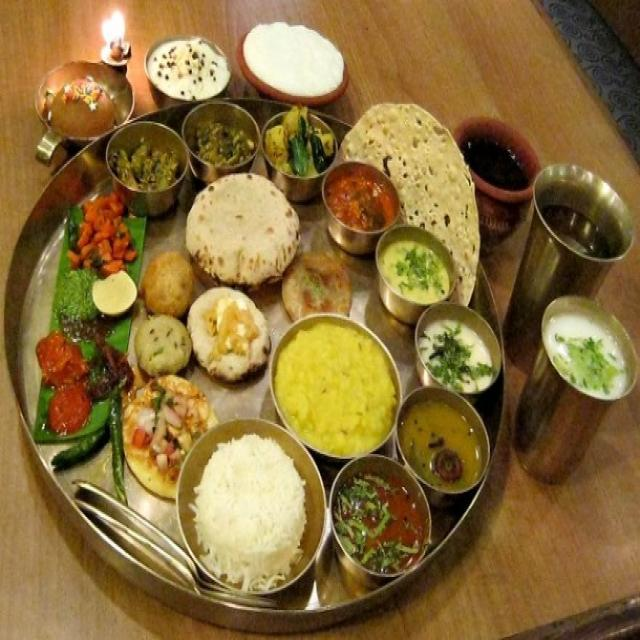curd: (240, 15, 346, 107)
dal: (280, 317, 402, 456)
papad: (190, 172, 299, 287)
sambar-rasam: (236, 12, 351, 108), (322, 164, 407, 235)
veg-fry: (64, 186, 148, 280)
